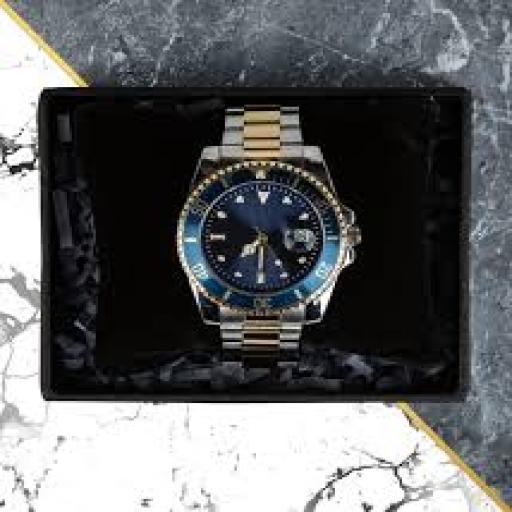KolSaati: (149, 92, 367, 368)
